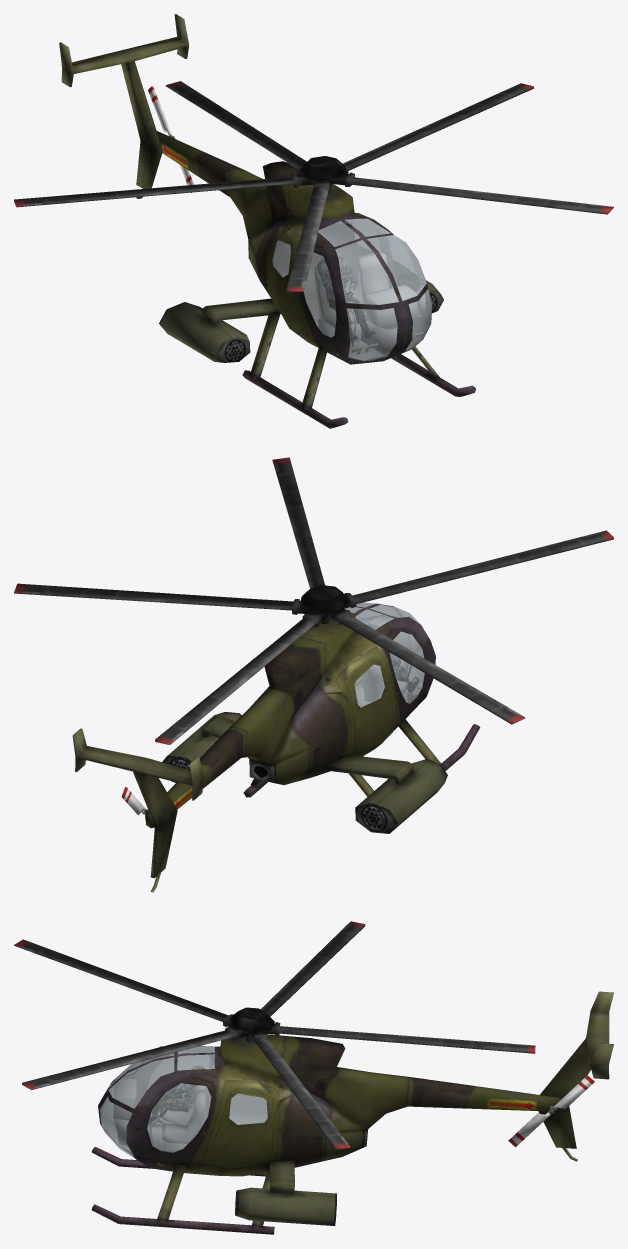
Rendered from HeliDoor.fbx.
3 renders of one model, top to bottom at view 1: azimuth 30°, elevation 25°; view 2: azimuth 150°, elevation 25°; view 3: azimuth 270°, elevation 25°, orthographic. The views are drawn at different scales.
Visible parts, largest first — view 1: Helicopter, Top_rotor.001, Glass, Cockpit, Canhoes, Suport, Pilot, Glass.Door; view 2: Helicopter, Top_rotor.001, Canhoes, Glass, Suport, Cockpit; view 3: Helicopter, Top_rotor.001, Cockpit, Glass, Canhoes, Glass.Door, Door, Tail_Rotor.002, Pilot, Suport.
Part boxes in pixels (left/top/right/bottom): Helicopter: left=59, top=14, right=475, bottom=428; Top_rotor.001: left=14, top=81, right=613, bottom=292; Glass: left=272, top=218, right=432, bottom=361; Cockpit: left=272, top=219, right=431, bottom=360; Canhoes: left=159, top=280, right=443, bottom=362; Suport: left=201, top=298, right=279, bottom=326; Pilot: left=317, top=256, right=375, bottom=341; Glass.Door: left=386, top=233, right=419, bottom=291; Helicopter: left=72, top=603, right=480, bottom=892; Top_rotor.001: left=14, top=457, right=613, bottom=744; Canhoes: left=162, top=712, right=447, bottom=833; Glass: left=344, top=602, right=424, bottom=707; Suport: left=201, top=715, right=413, bottom=785; Cockpit: left=355, top=605, right=424, bottom=707; Helicopter: left=91, top=991, right=613, bottom=1234; Top_rotor.001: left=14, top=921, right=535, bottom=1149; Cockpit: left=100, top=1047, right=267, bottom=1152; Glass: left=99, top=1046, right=267, bottom=1158; Canhoes: left=235, top=1187, right=336, bottom=1225; Glass.Door: left=147, top=1083, right=211, bottom=1152; Door: left=139, top=1077, right=216, bottom=1163; Tail_Rotor.002: left=508, top=1075, right=594, bottom=1147; Pilot: left=149, top=1066, right=204, bottom=1123; Suport: left=269, top=1160, right=294, bottom=1194.
Bounding box in the file's own units: 1165 × 463 × 1296.
